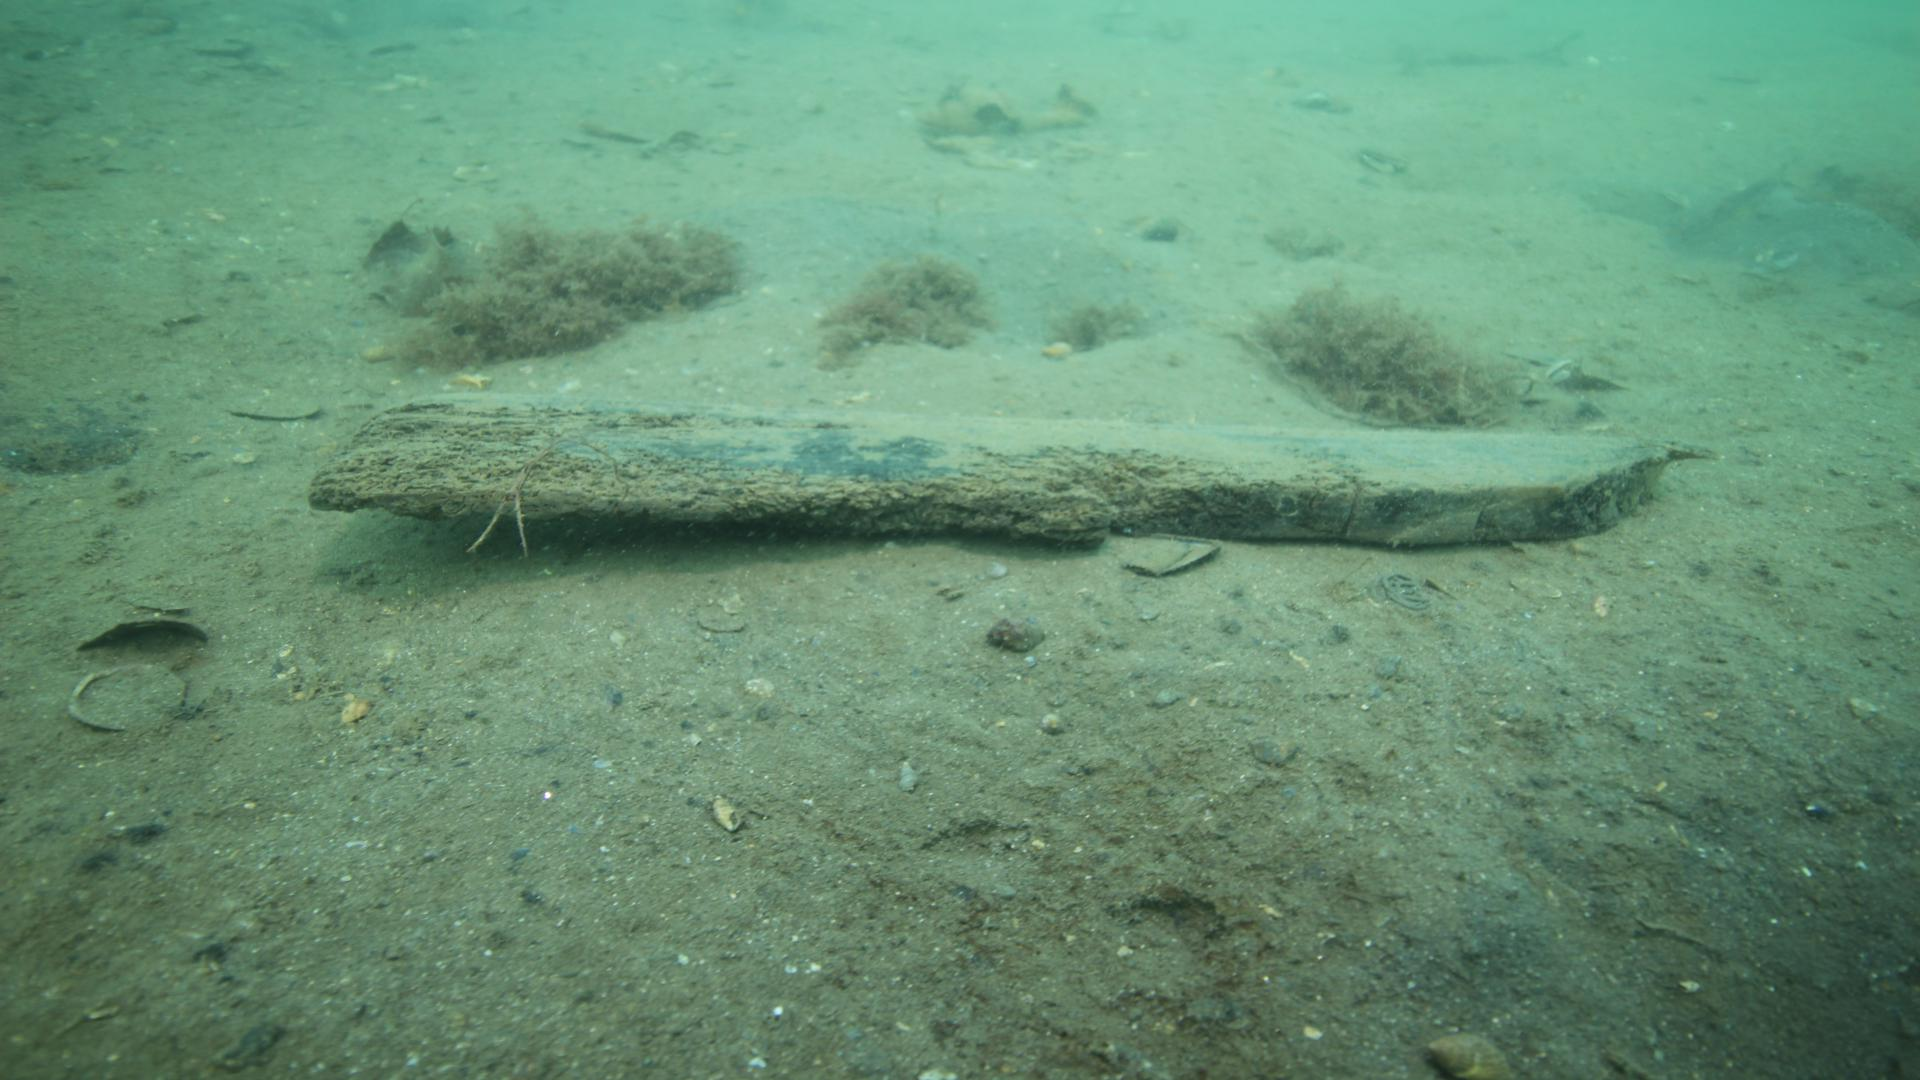wood: (302, 386, 1725, 555)
